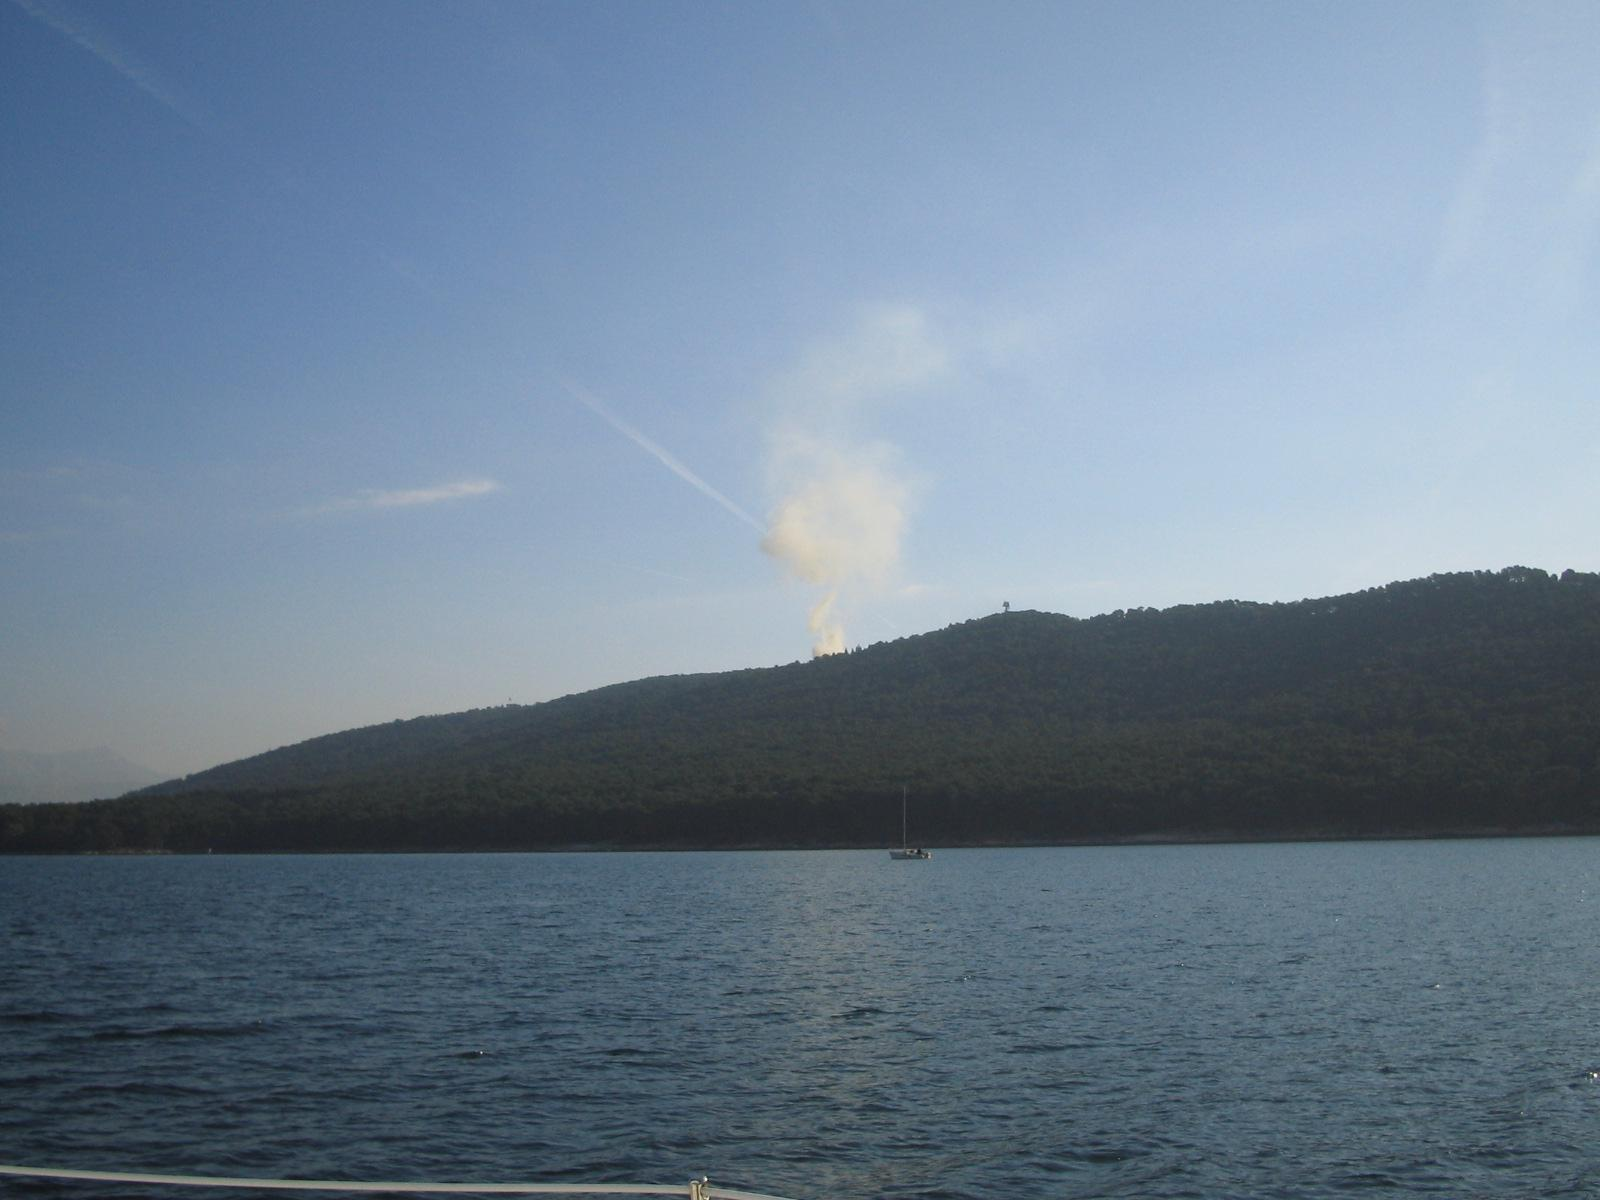Smoke: (745, 305, 936, 667)
